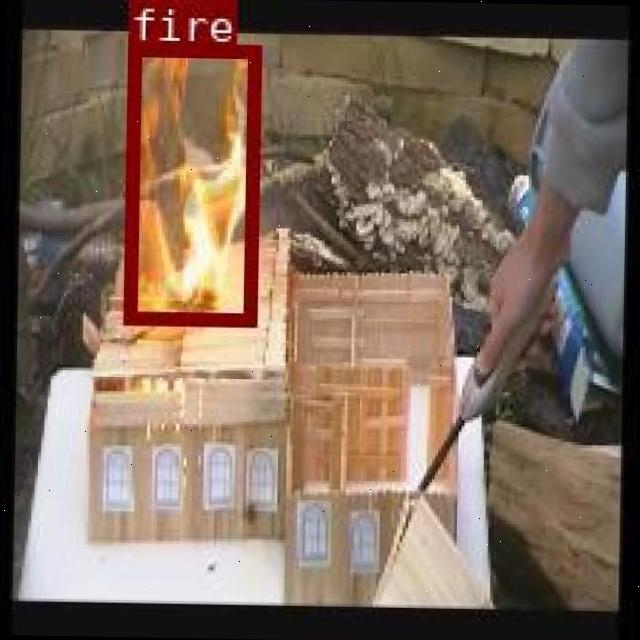fire: (121, 40, 257, 322)
